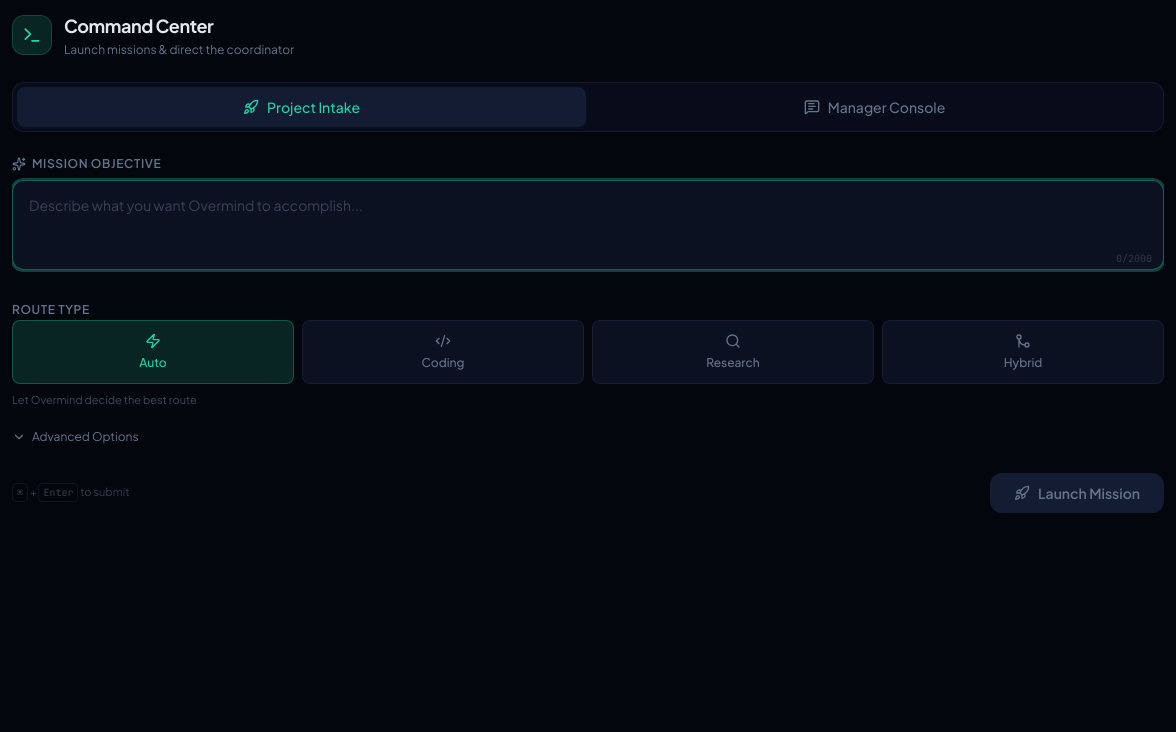
Test case: ControlPage › Intake Tab › allows selecting a different route type
Click the button "Research". click: point(733, 352)
box: [592,320,874,384]
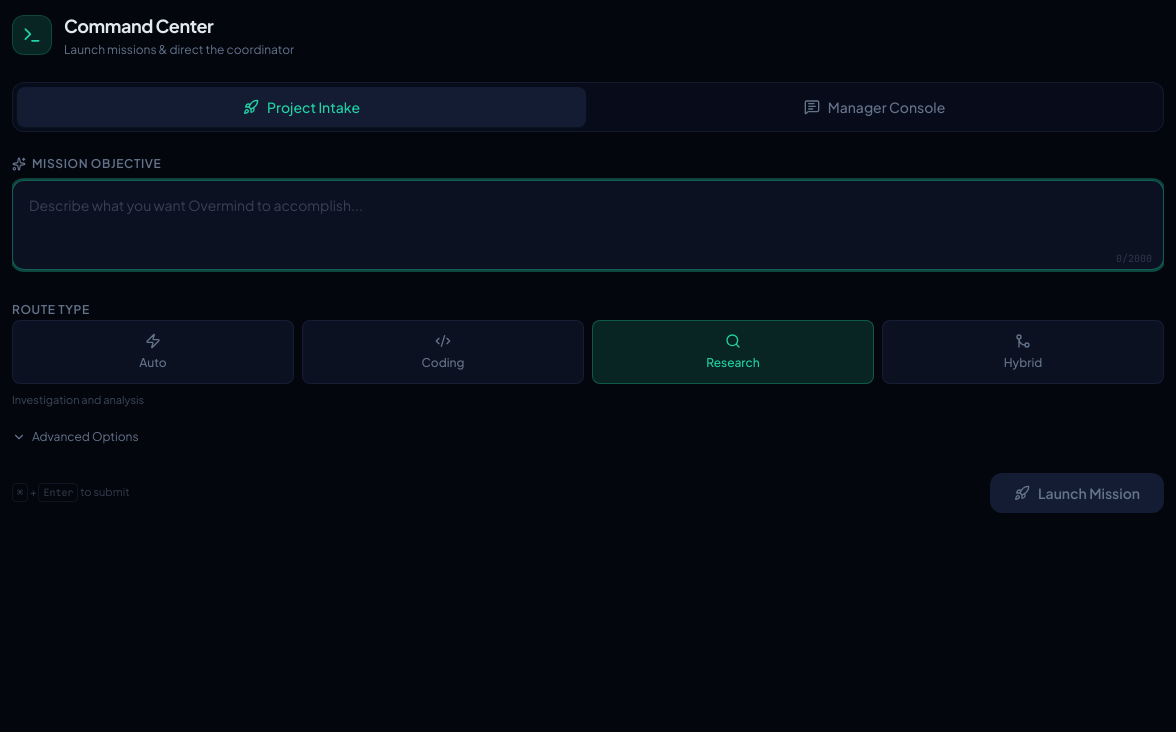
expect the text "Investigation and analysis" is shown: met, box [12,393,144,406]
